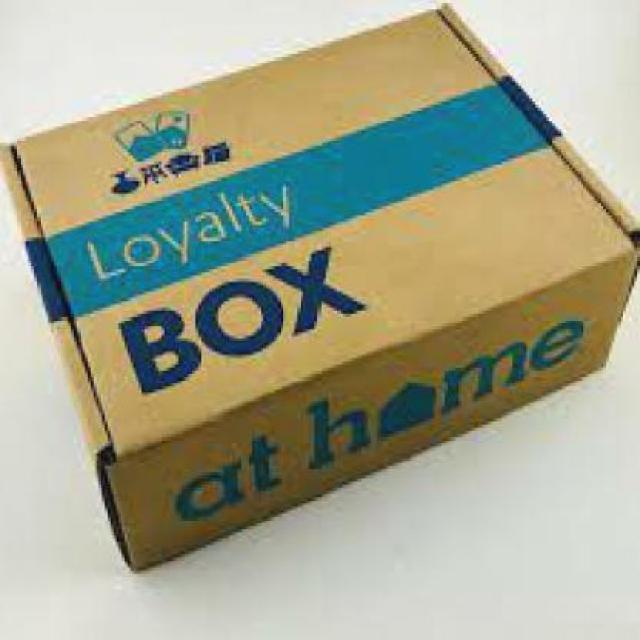-: (3, 5, 635, 575)
